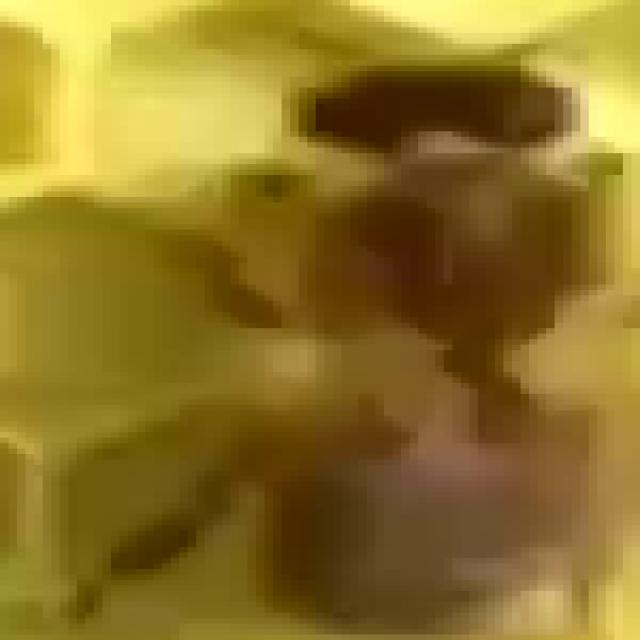honeybee: (80, 64, 606, 606)
